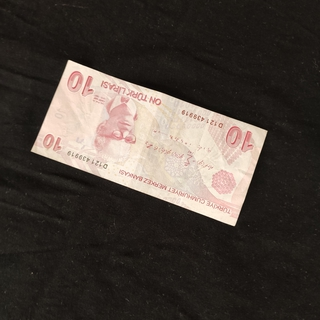10TLBack: (29, 58, 269, 228)
